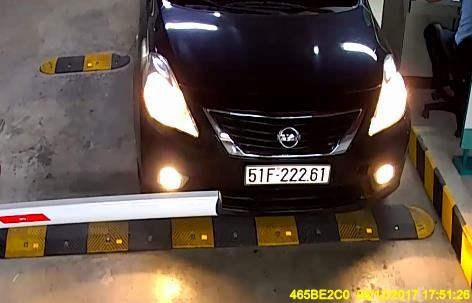plate: (243, 162, 327, 189)
